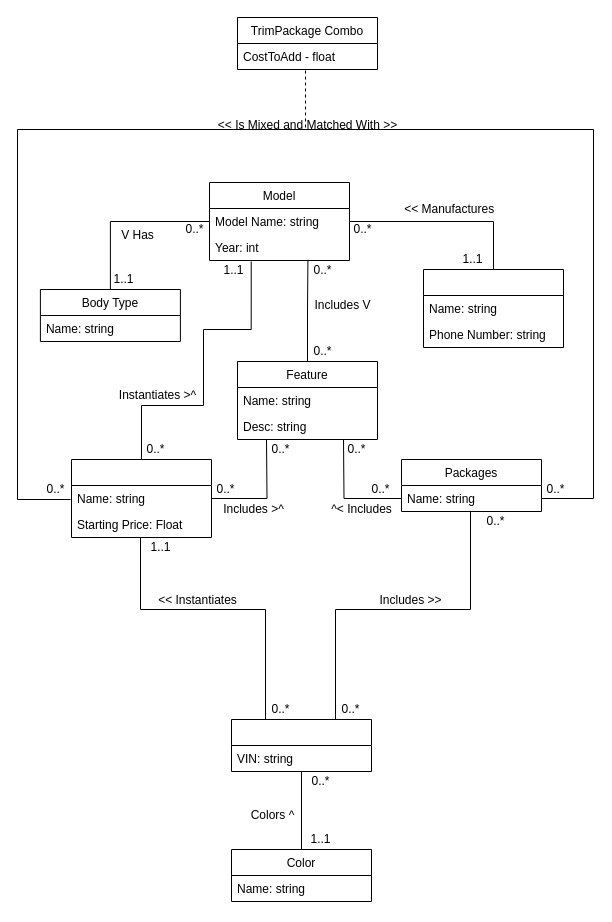
Some shapes in this 612 by 922 pixel diagram are drawn without their labels. Here are the shapes that lost their labels. From the top down, the box of each, then its label:
(422, 268, 564, 348): Manufacturer
(70, 458, 212, 538): Trim
(230, 718, 372, 772): Automobile
